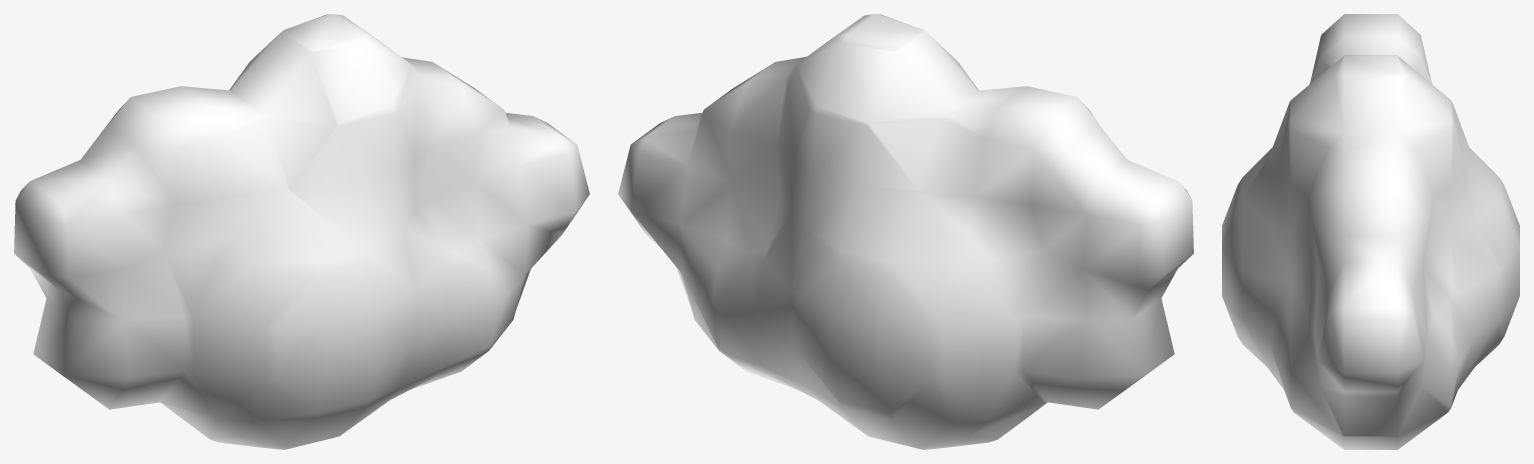
File: cloud7.glb
The picture shows the model from 3 angles, left to right: view 1: azimuth 30°, elevation 25°; view 2: azimuth 150°, elevation 25°; view 3: azimuth 270°, elevation 25°; orthographic projection. The views are drawn at different scales.
Visible parts, largest first — view 1: Mball.011; view 2: Mball.011; view 3: Mball.011.
Part boxes in pixels (<box>): Mball.011: <box>14,14,589,449</box>; Mball.011: <box>618,14,1193,449</box>; Mball.011: <box>1222,14,1519,449</box>.
Size of the model in its own units: 6.36 by 4.31 by 3.26.
Materials: 1 (1 with a texture image).
